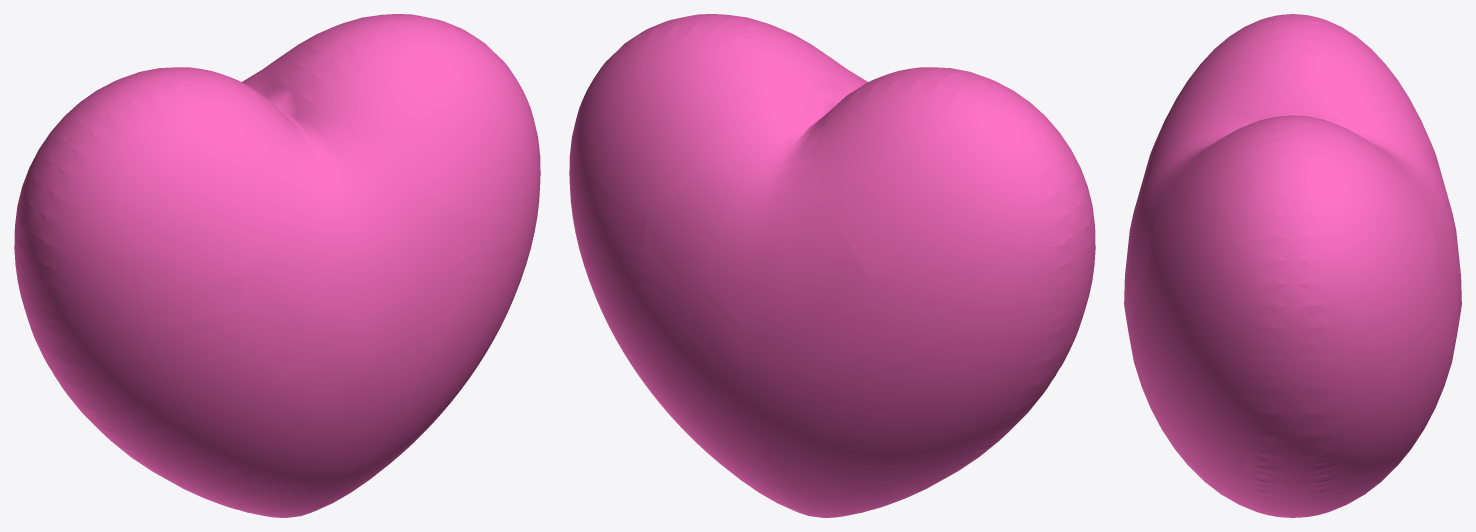
Rendered from heart.glb.
3 views of the same model, side by side, from view 1: azimuth 30°, elevation 25°; view 2: azimuth 150°, elevation 25°; view 3: azimuth 270°, elevation 25° (orthographic). The views are drawn at different scales.
Parts seen in each view (by area): view 1: Vector; view 2: Vector; view 3: Vector.
Boxes of the visible parts, x1=… form: Vector: x1=14, y1=14, x2=540, y2=517; Vector: x1=569, y1=14, x2=1095, y2=517; Vector: x1=1124, y1=14, x2=1461, y2=517.
Bounding box in the file's own units: 25.09 × 22.3 × 15.69.
